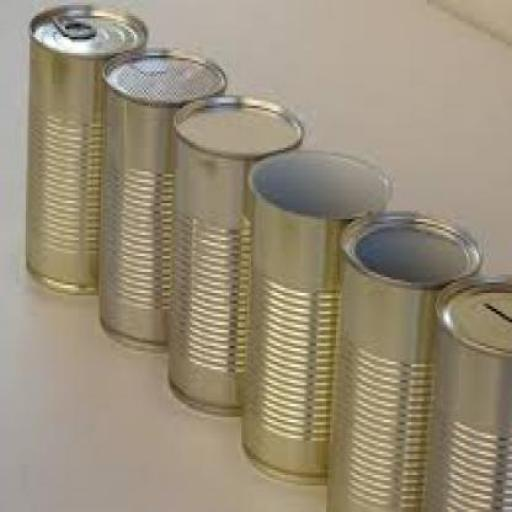metal: (239, 148, 391, 480), (324, 206, 482, 509), (170, 92, 303, 418), (104, 48, 226, 352), (28, 5, 144, 293), (419, 272, 510, 510)
